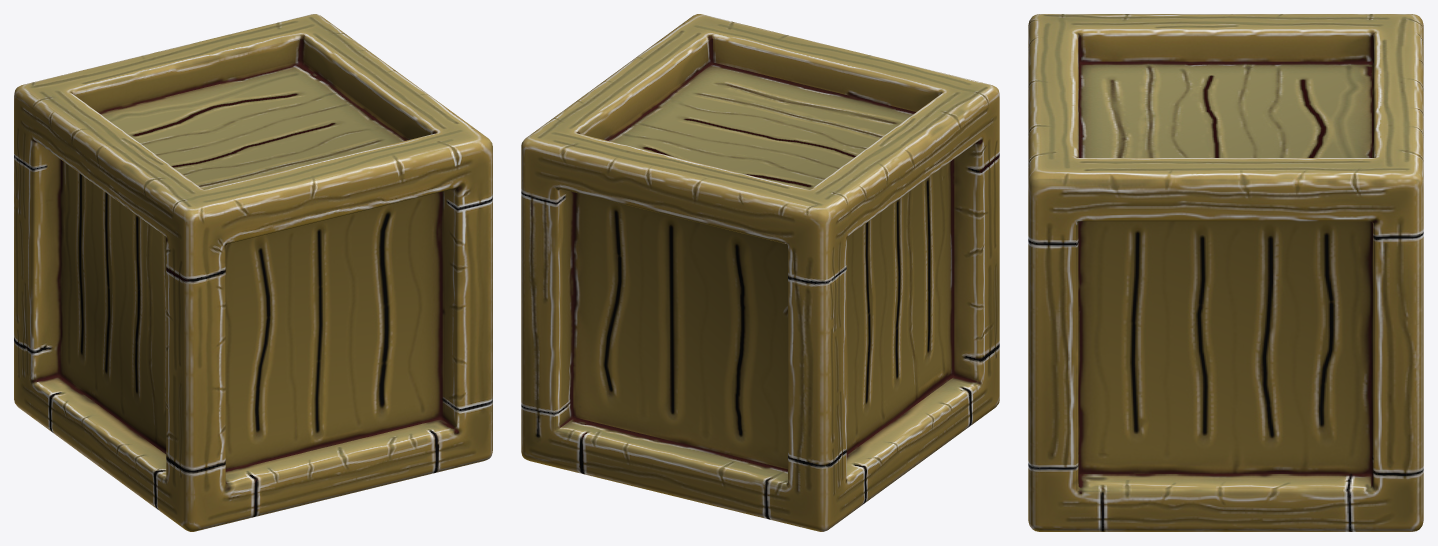
Rendered from stylized_low_poly_hanpainted_crate.glb.
3 views of the same model, side by side, from view 1: azimuth 30°, elevation 25°; view 2: azimuth 150°, elevation 25°; view 3: azimuth 270°, elevation 25° (orthographic). The views are drawn at different scales.
Parts seen in each view (by area): view 1: lp_Cube; view 2: lp_Cube; view 3: lp_Cube.
Boxes of the visible parts, x1=… form: lp_Cube: x1=14, y1=14, x2=492, y2=531; lp_Cube: x1=521, y1=14, x2=999, y2=531; lp_Cube: x1=1028, y1=14, x2=1423, y2=531.
Size of the model in its own units: 2 by 2 by 2.
1 material, 1 textured.
